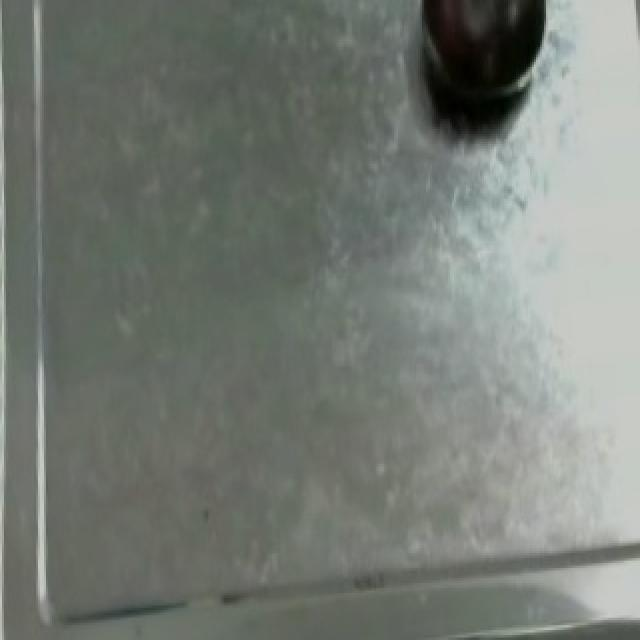Fruit: (402, 0, 562, 136)
